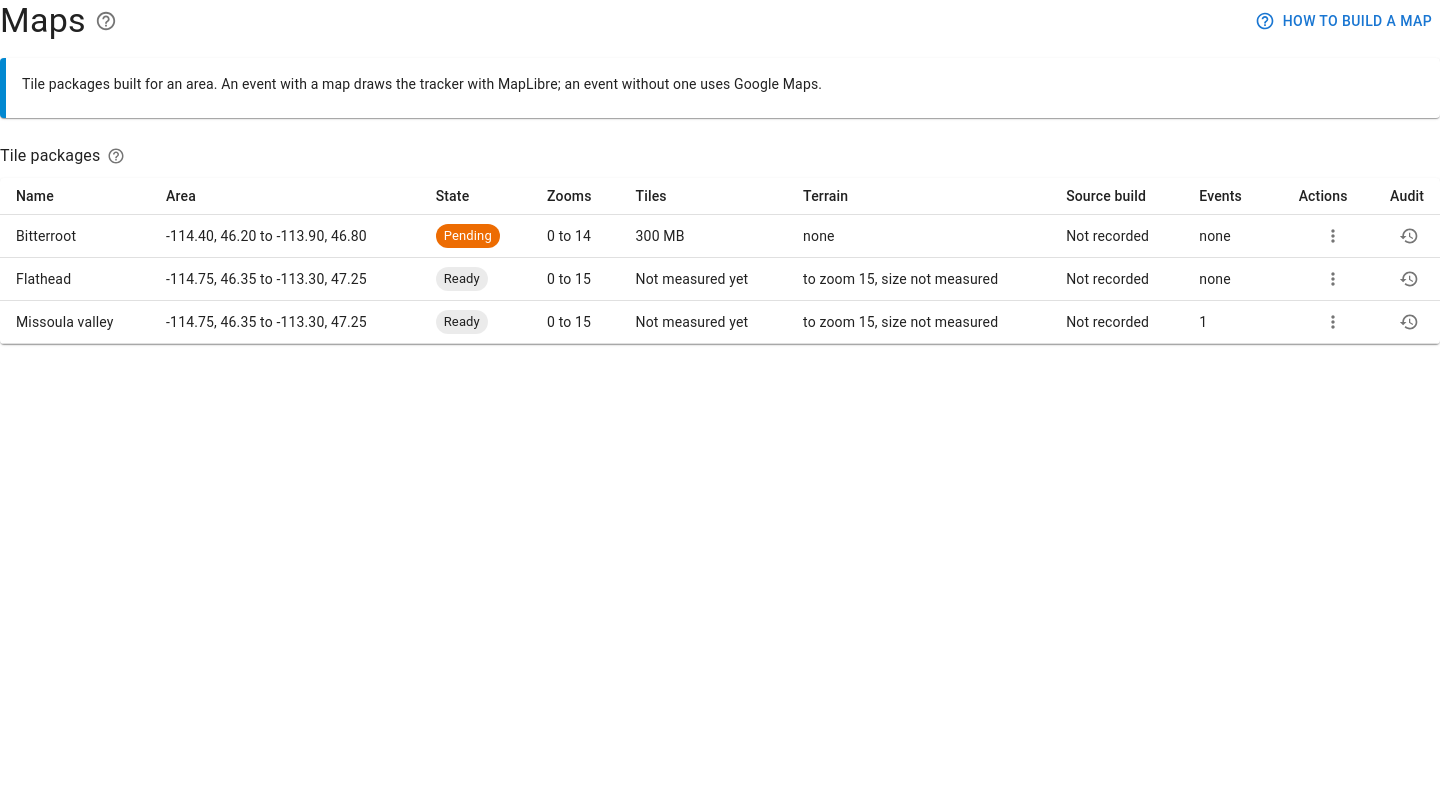
MapsList › Delete offers Replace with over the other ready maps and sends replacementId on the body
Click the button named "Actions for Missoula valley" at point(1333, 322), box [1318,307,1348,337]
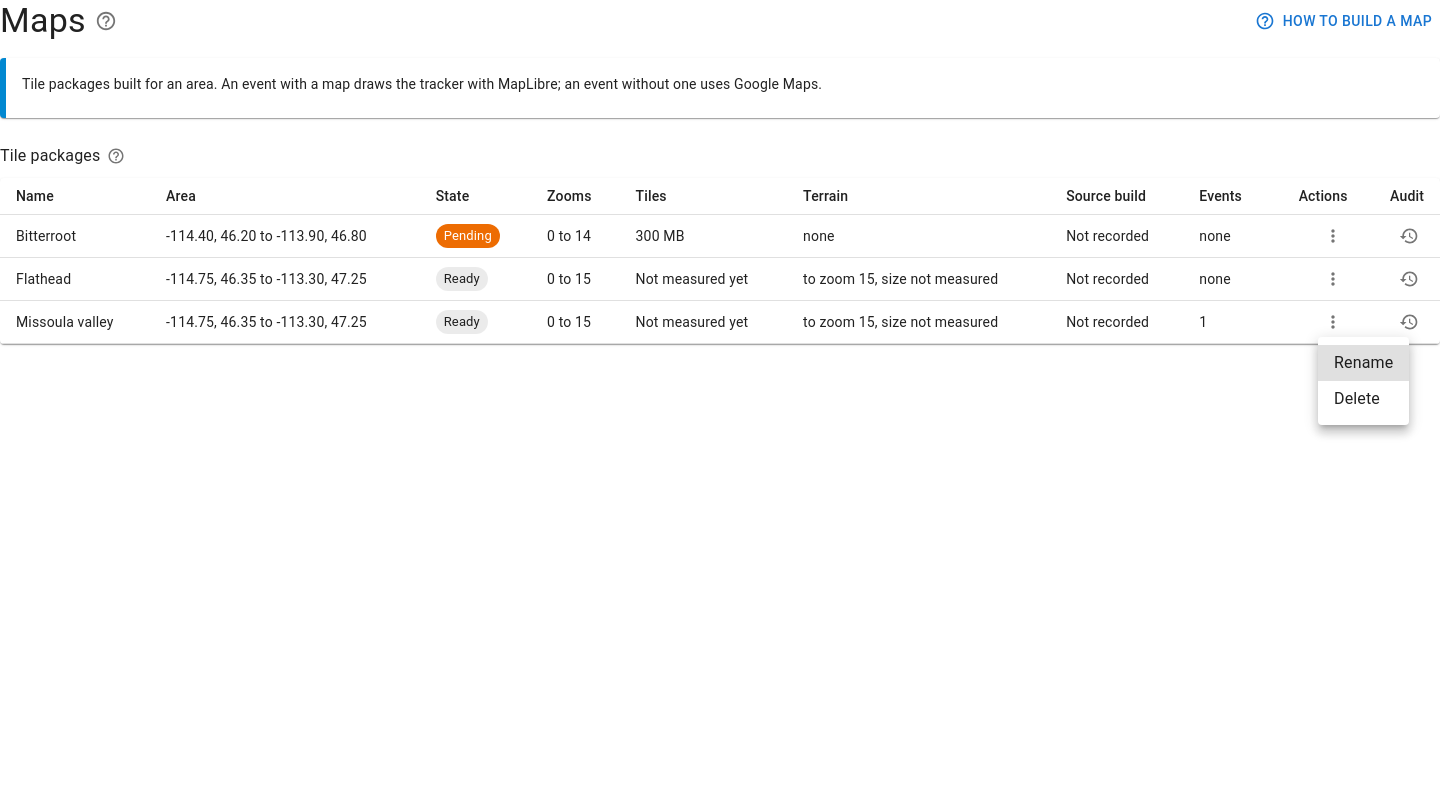
Click the menu item "Delete" at point(1357, 398), box [1334,389,1380,408]
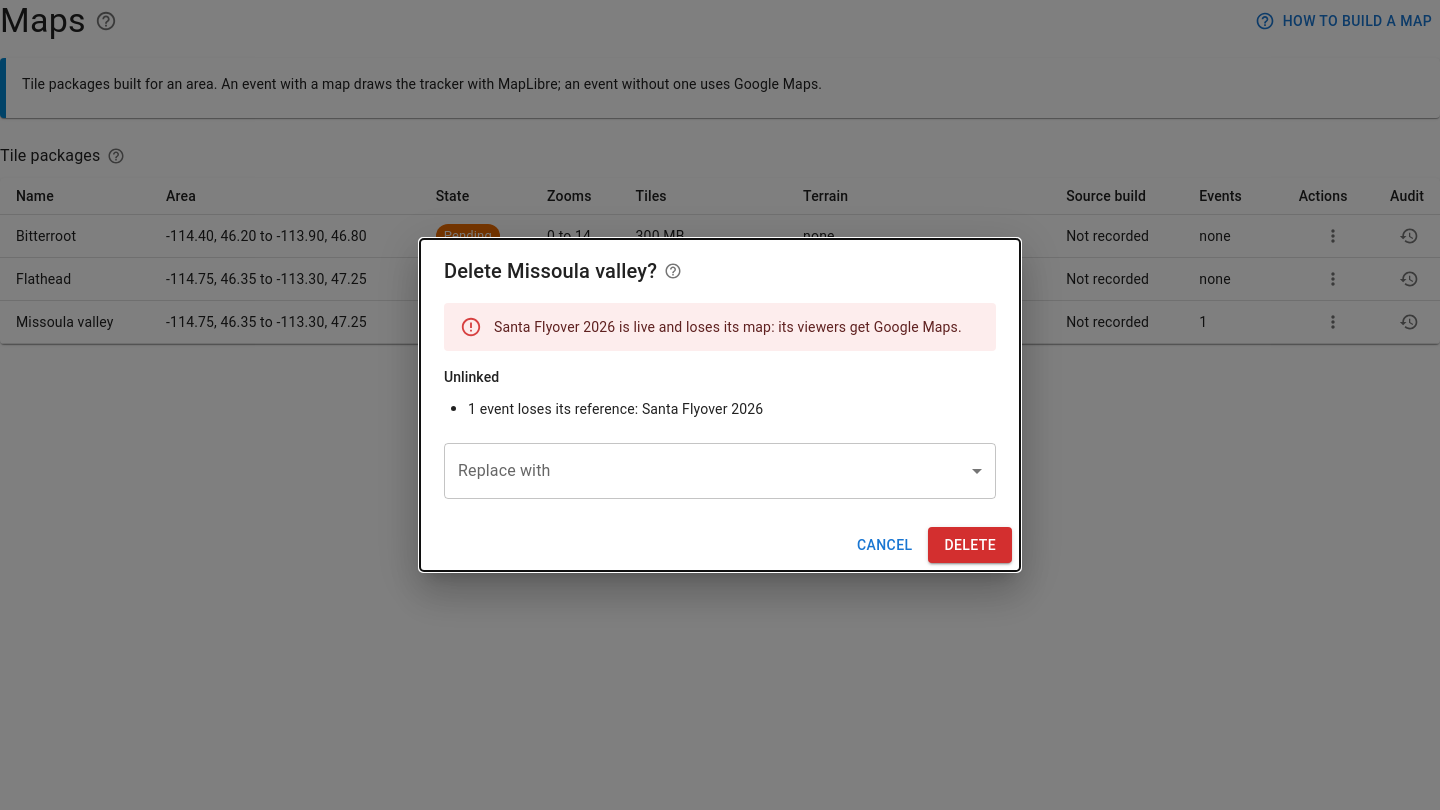
Expected: the dialog shows "Delete Missoula valley?", [444,259,657,283]
Expected: the button with test id "help-maps.delete" is shown, [661,259,685,283]
Expected: the text "1 event loses its reference: Santa Flyover 2026" is shown, [468,401,763,417]
Click the dropdown named "replace with" at point(720, 471), box [444,443,996,499]
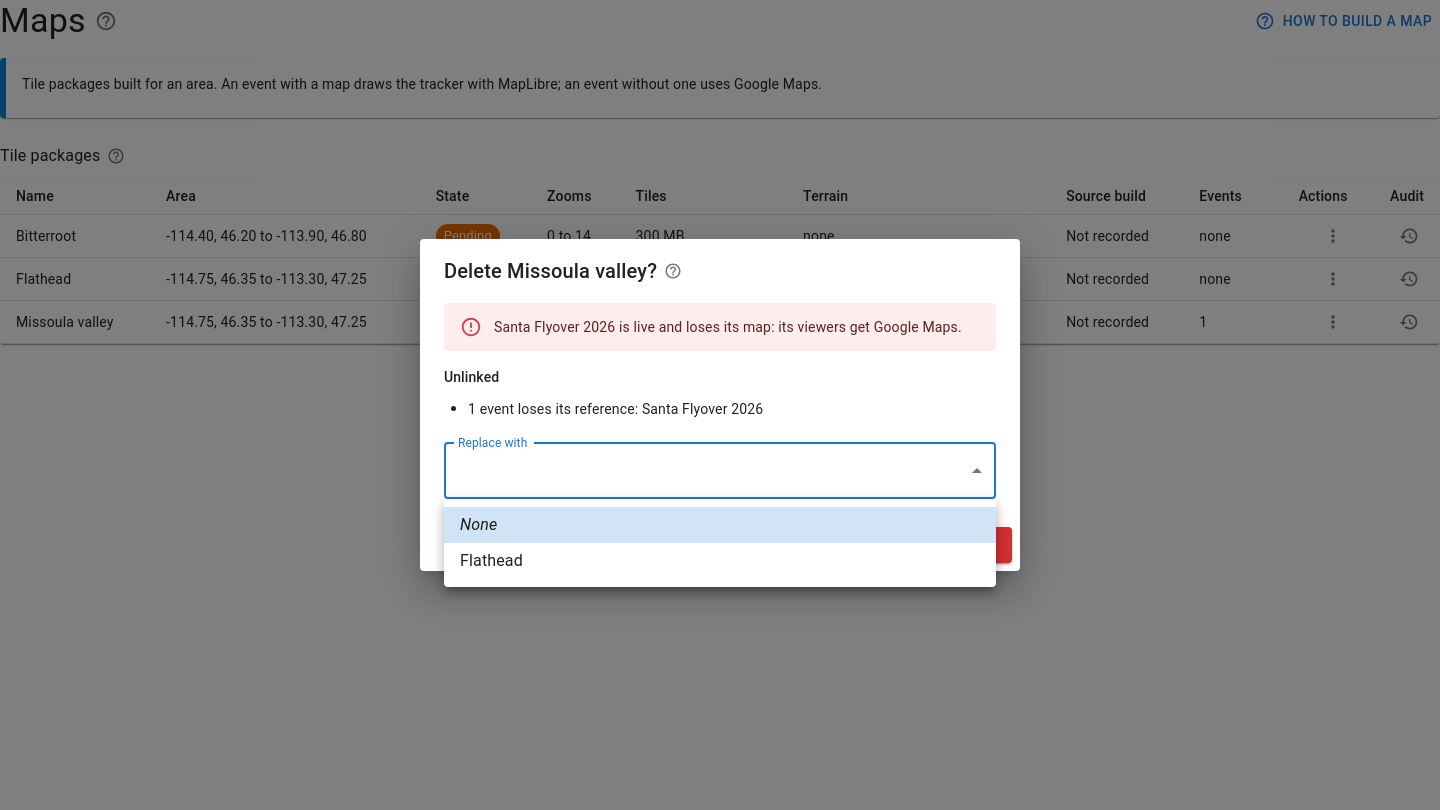
Expected: the option "Flathead" is shown
Click the option "Flathead" at point(491, 560), box [460,551,523,570]
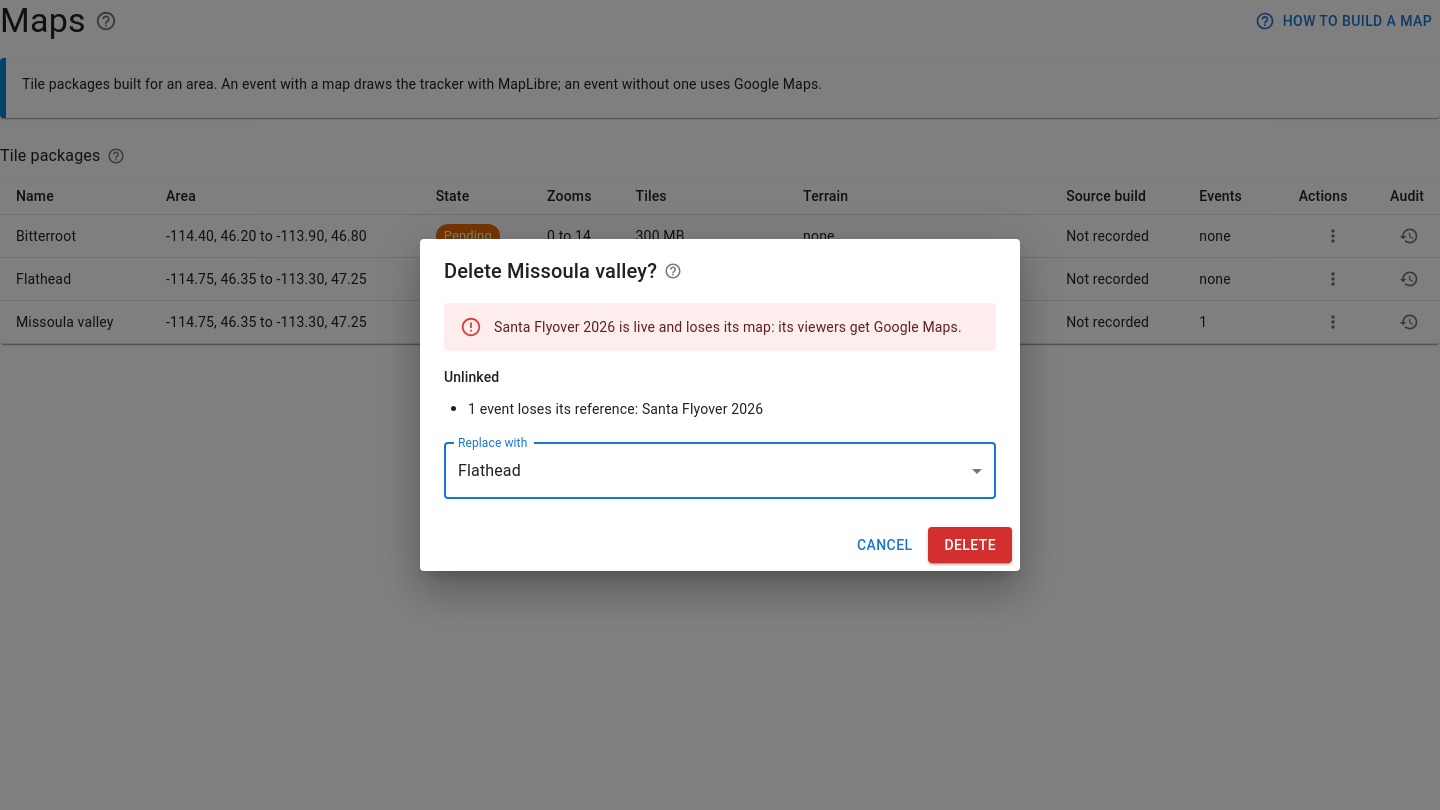
Click the button "Delete" at point(970, 545), box [928,527,1012,563]
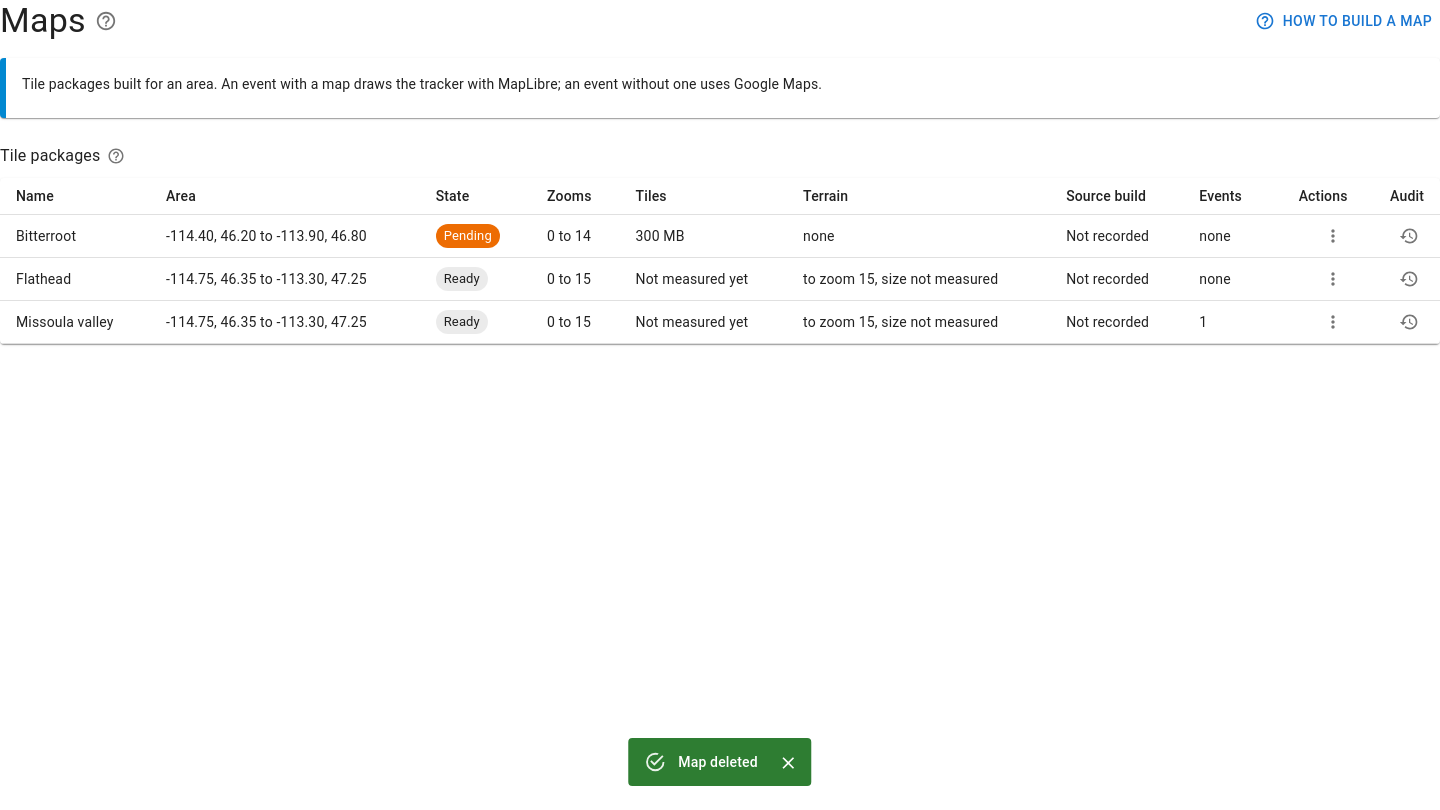
Expected: the text "Map deleted" is shown, [678,754,758,770]
